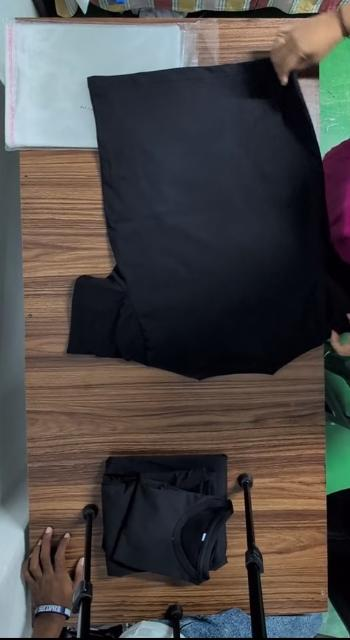new-garment: (69, 58, 329, 378)
